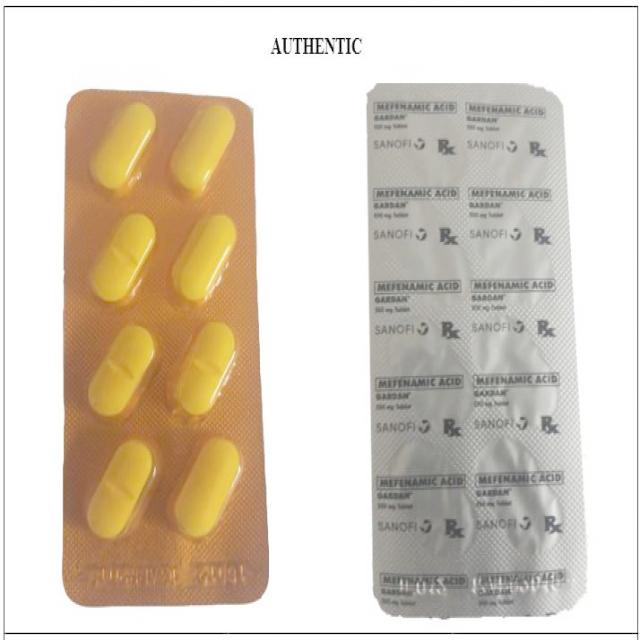authentic: (368, 78, 596, 618), (62, 81, 270, 607)
